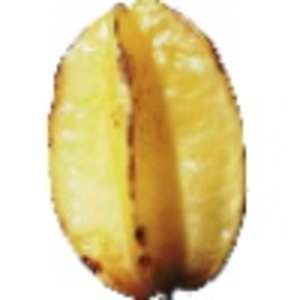carambola: (45, 1, 249, 300)
